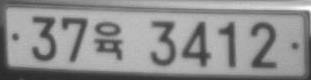1: (218, 21, 240, 68)
2: (251, 21, 277, 67)
3: (151, 21, 175, 65), (32, 16, 55, 60)
4: (181, 20, 211, 66)
7: (62, 17, 87, 61)
육: (95, 20, 123, 60)
